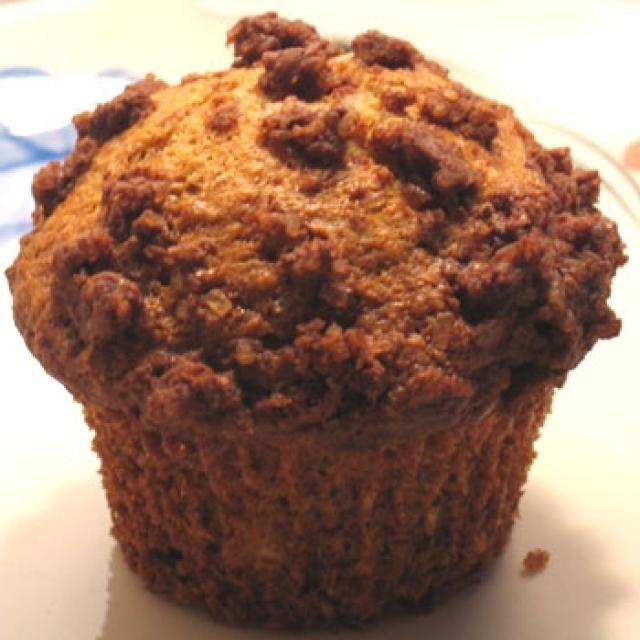炸货点心: (9, 9, 627, 635)
面包点心: (9, 9, 627, 635)
